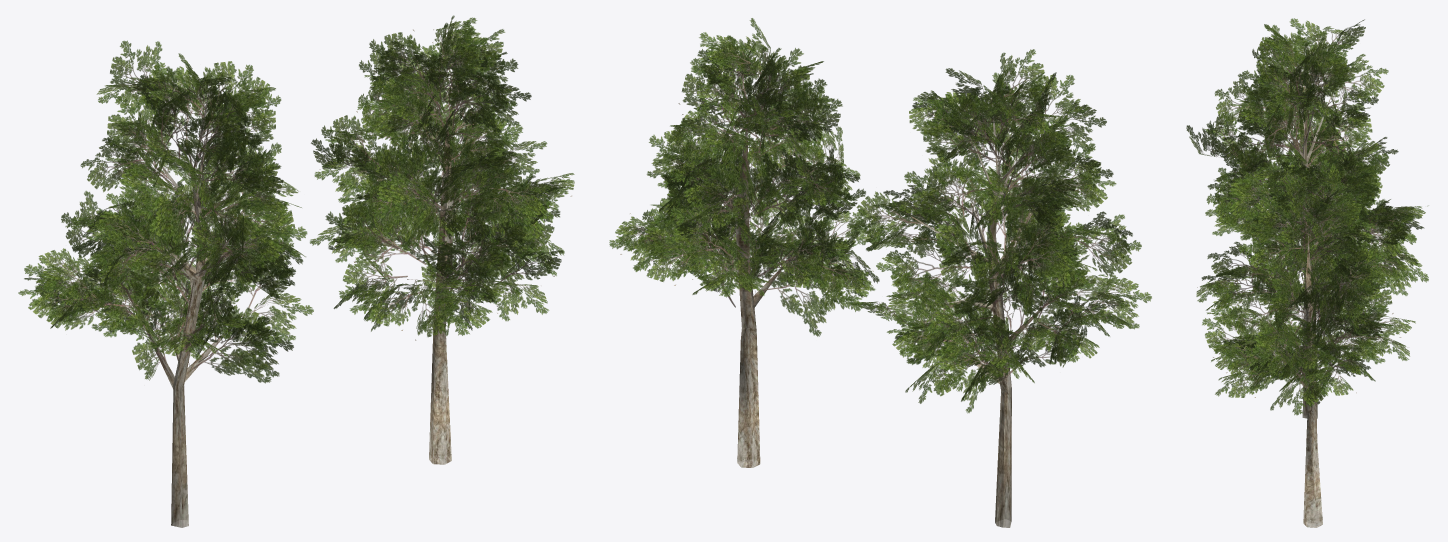
File: tree.glb
3 views of the same model, side by side, from view 1: azimuth 30°, elevation 25°; view 2: azimuth 150°, elevation 25°; view 3: azimuth 270°, elevation 25° (orthographic). The views are drawn at different scales.
Visible parts, largest first — view 1: Tree 1, Tree 2; view 2: Tree 1, Tree 2; view 3: Tree 2, Tree 1.
Part boxes in pixels (x1,y1,x2,y2): Tree 1: (18,40,313,527); Tree 2: (310,15,574,464); Tree 1: (845,49,1151,527); Tree 2: (609,18,879,467); Tree 2: (1196,152,1417,527); Tree 1: (1186,18,1428,418).
Bounding box in the file's own units: 10.73 × 8.99 × 5.22.
Materials: 1 (1 with a texture image).
